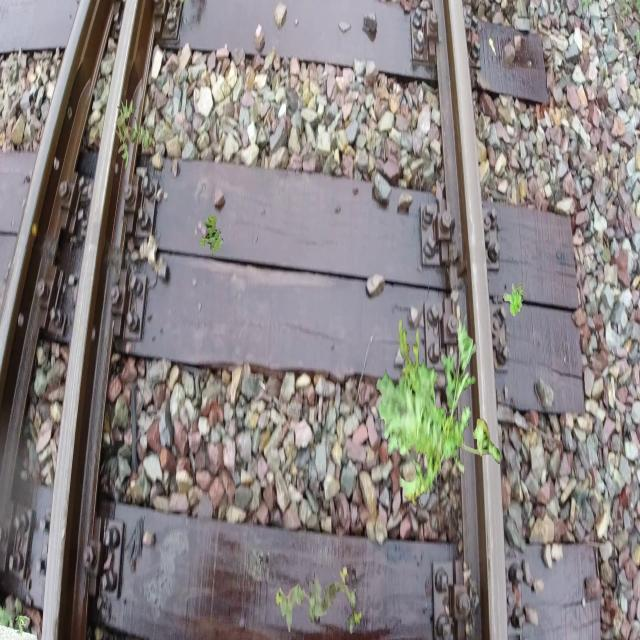Plant: (376, 314, 501, 510), (275, 566, 362, 634), (115, 98, 156, 170), (200, 214, 224, 255), (503, 284, 524, 317), (16, 615, 30, 636)
